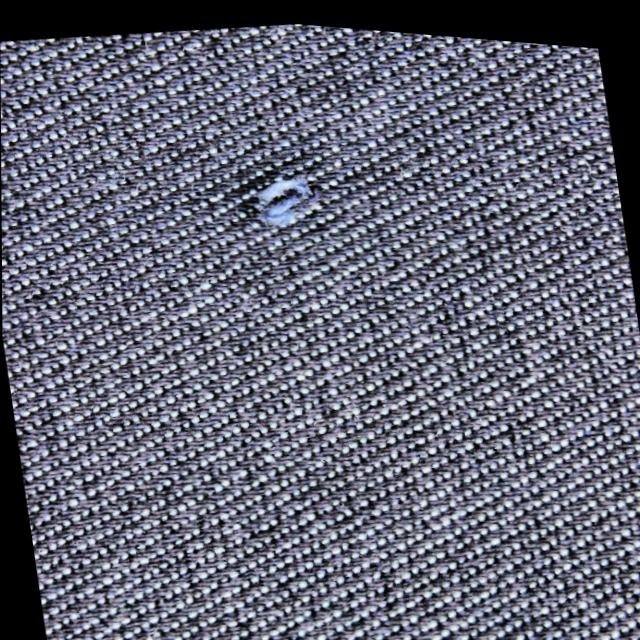Hole: (207, 149, 365, 256)
